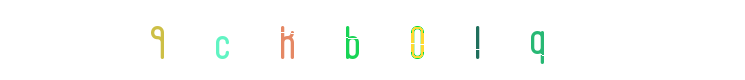0: (354, 0, 434, 80)
1: (404, 0, 484, 80)
9: (227, 0, 307, 80)
B: (332, 0, 412, 80)
C: (246, 0, 326, 80)
K: (252, 0, 332, 80)
Q: (437, 0, 517, 80)
